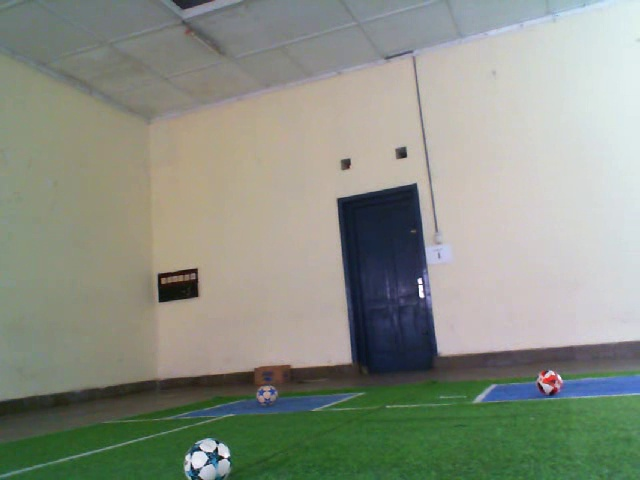ball: (181, 434, 235, 480), (534, 367, 566, 399), (253, 380, 281, 409)
